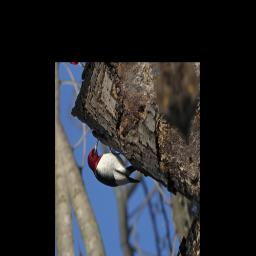Woodpecker: (81, 119, 144, 207)
